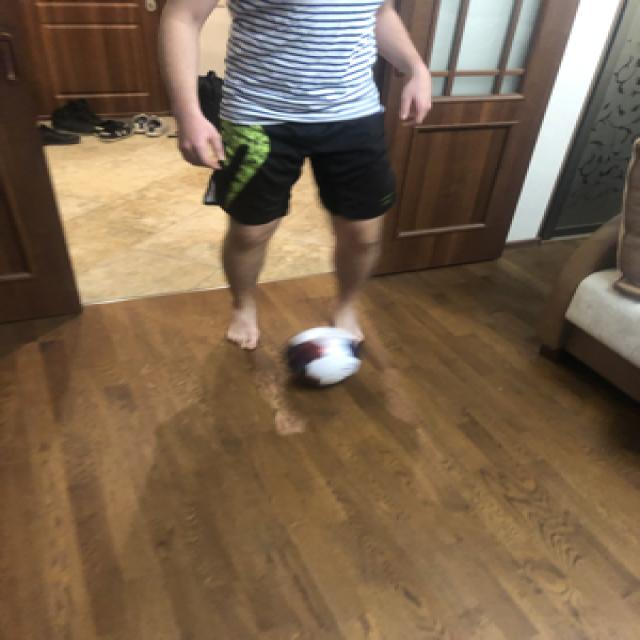soccer_ball: (282, 322, 364, 386)
